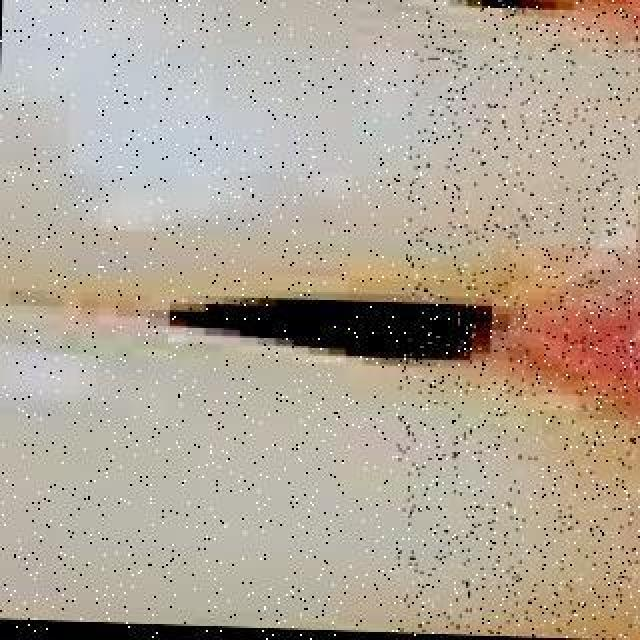spacing: (163, 235, 591, 407), (240, 0, 640, 62)
